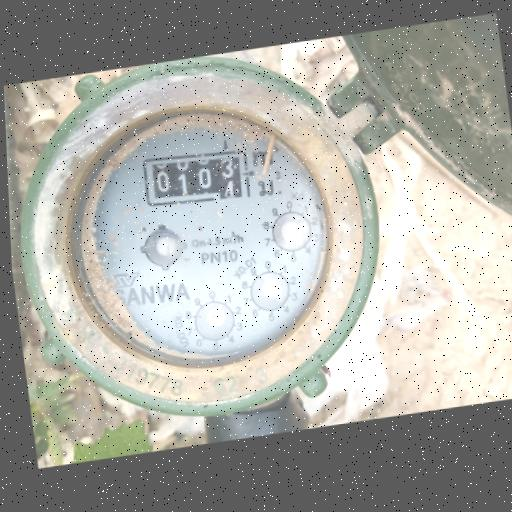0: (192, 155, 223, 196), (151, 161, 178, 199)
1: (171, 159, 198, 199)
3: (214, 155, 245, 201)
border_water_meter_number: (138, 144, 253, 212)
